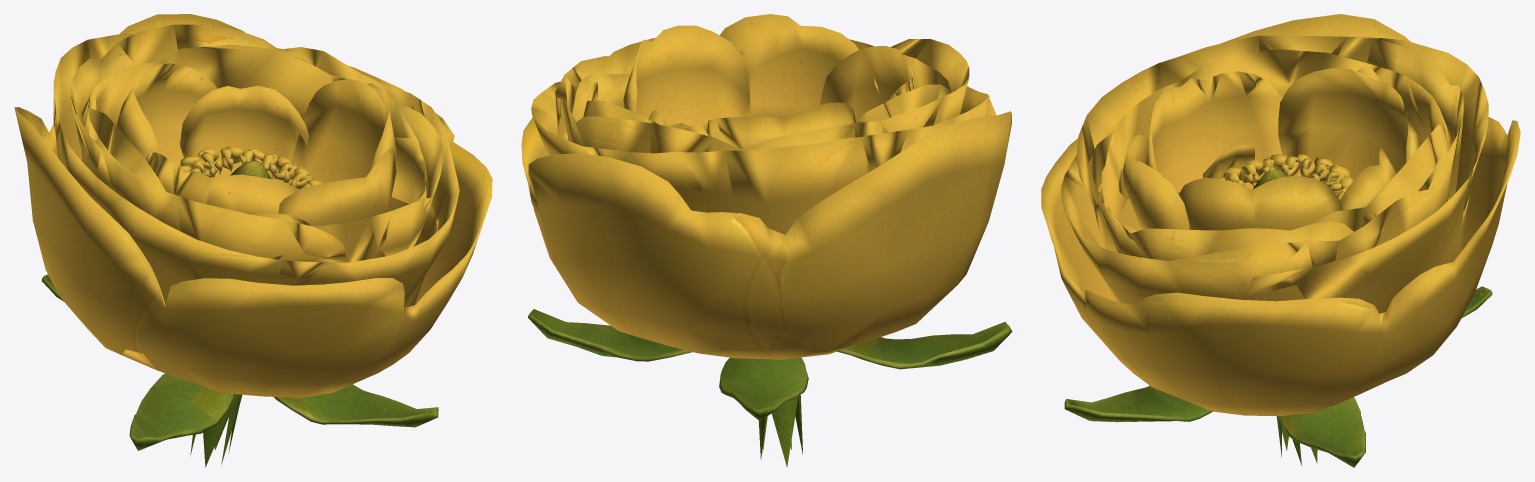
Rendered from yellow.glb.
3 renders of one model, left to right at view 1: azimuth 30°, elevation 25°; view 2: azimuth 150°, elevation 25°; view 3: azimuth 270°, elevation 25°, orthographic. The views are drawn at different scales.
Visible parts, largest first — view 1: tripo_node_440a7337-ddfd-47a4-9659-75376fb6b889; view 2: tripo_node_440a7337-ddfd-47a4-9659-75376fb6b889; view 3: tripo_node_440a7337-ddfd-47a4-9659-75376fb6b889.
Part boxes in pixels (x1,y1,x2,y2): tripo_node_440a7337-ddfd-47a4-9659-75376fb6b889: (14, 14, 492, 467); tripo_node_440a7337-ddfd-47a4-9659-75376fb6b889: (521, 14, 1012, 467); tripo_node_440a7337-ddfd-47a4-9659-75376fb6b889: (1041, 14, 1520, 467).
Size of the model in its own units: 0.5332 by 0.4727 by 0.5566.
1 material, 1 textured.
